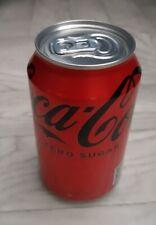metal: (27, 20, 142, 200)
